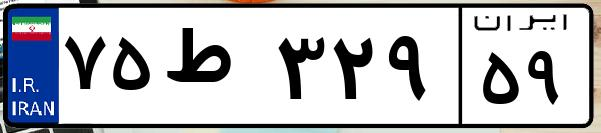2: (330, 28, 385, 110)
3: (270, 28, 330, 110)
5: (475, 38, 525, 113), (110, 28, 158, 98)
7: (57, 26, 110, 100)
9: (385, 28, 445, 110), (525, 38, 570, 115)
ط: (158, 20, 270, 120)
